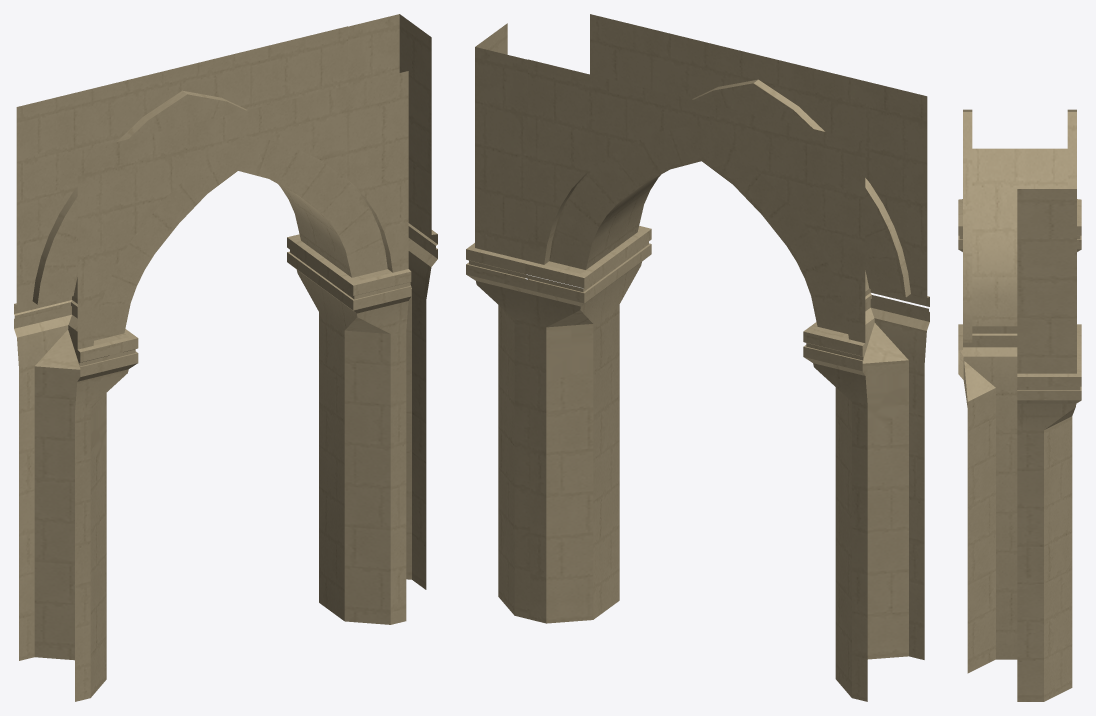
Rendered from ARCHH.fbx.
3 renders of one model, left to right at view 1: azimuth 30°, elevation 25°; view 2: azimuth 150°, elevation 25°; view 3: azimuth 270°, elevation 25°, orthographic. The views are drawn at different scales.
Visible parts, largest first — view 1: Circle.013, Circle.014; view 2: Circle.013, Circle.014; view 3: Circle.013, Circle.014.
Boxes of the visible parts, left/top/right/bottom form: Circle.013: left=14, top=26, right=411, bottom=701; Circle.014: left=348, top=14, right=437, bottom=589; Circle.013: left=525, top=14, right=929, bottom=701; Circle.014: left=466, top=23, right=530, bottom=619; Circle.013: left=958, top=109, right=1081, bottom=673; Circle.014: left=1017, top=189, right=1081, bottom=701.
Size of the model in its own units: 883 by 1196 by 260.
